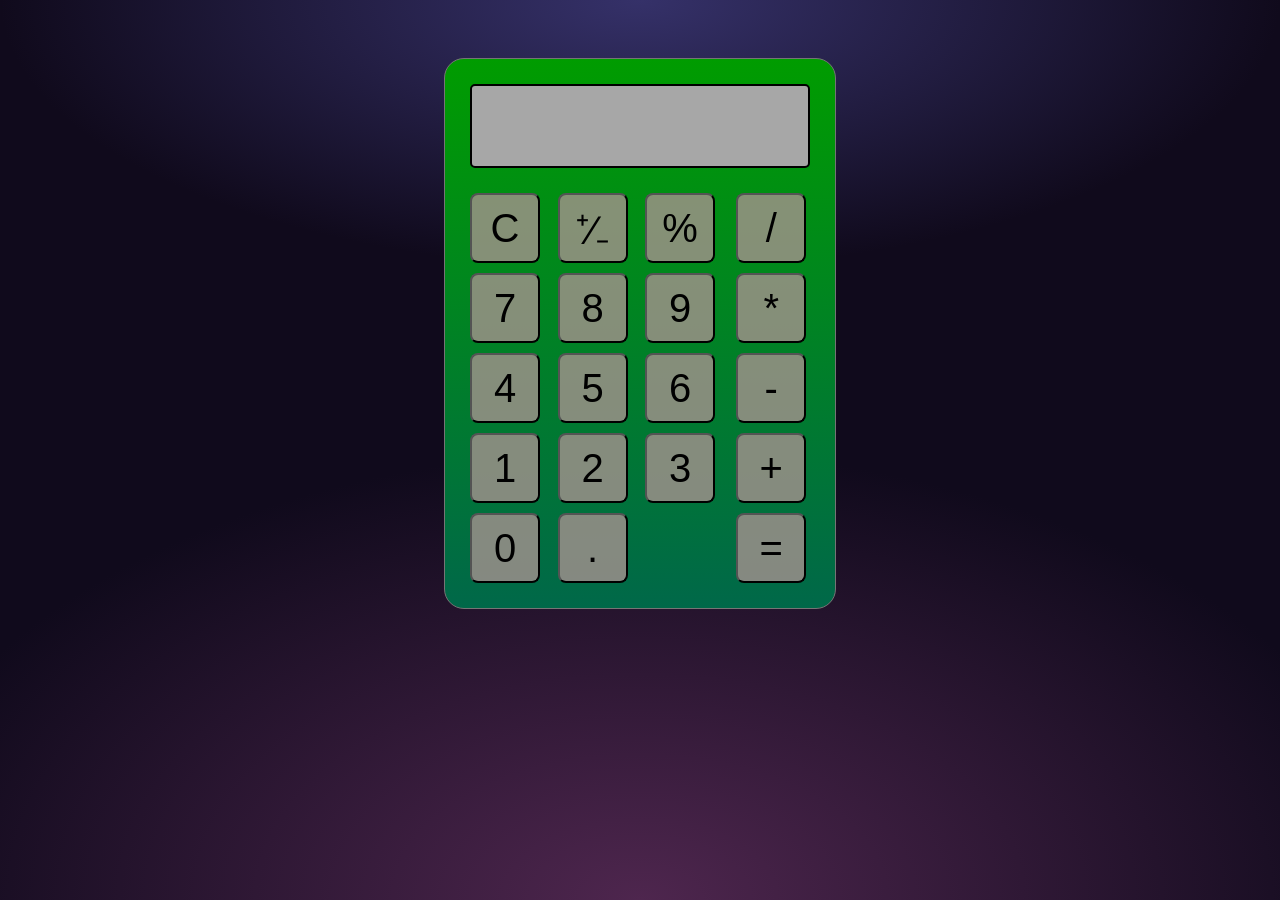
Calculator functions tests › Changes sign
Click the button "4" at x=505, y=388, box 470,353 -> 540,423
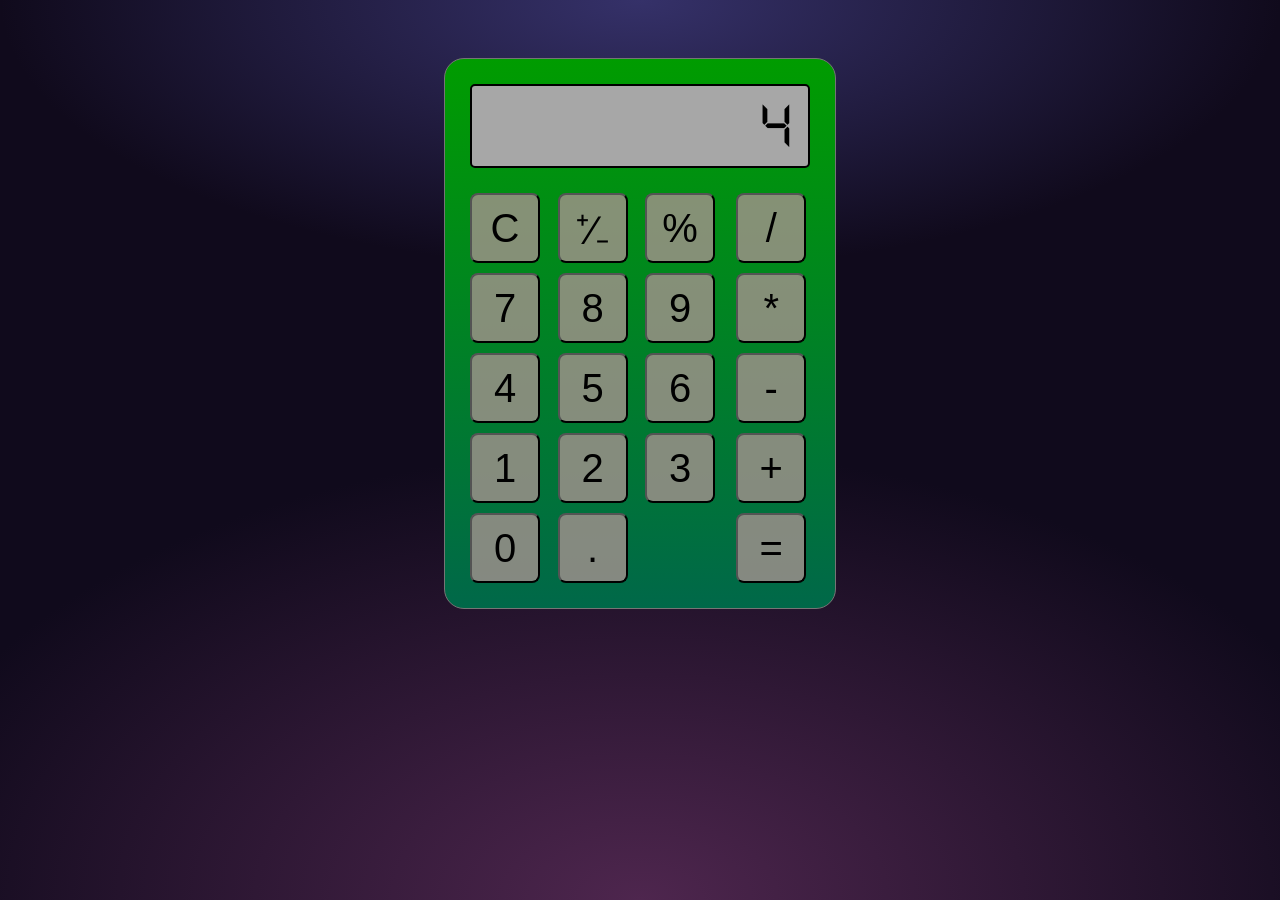
Click the button "5" at x=592, y=388, box 558,353 -> 628,423
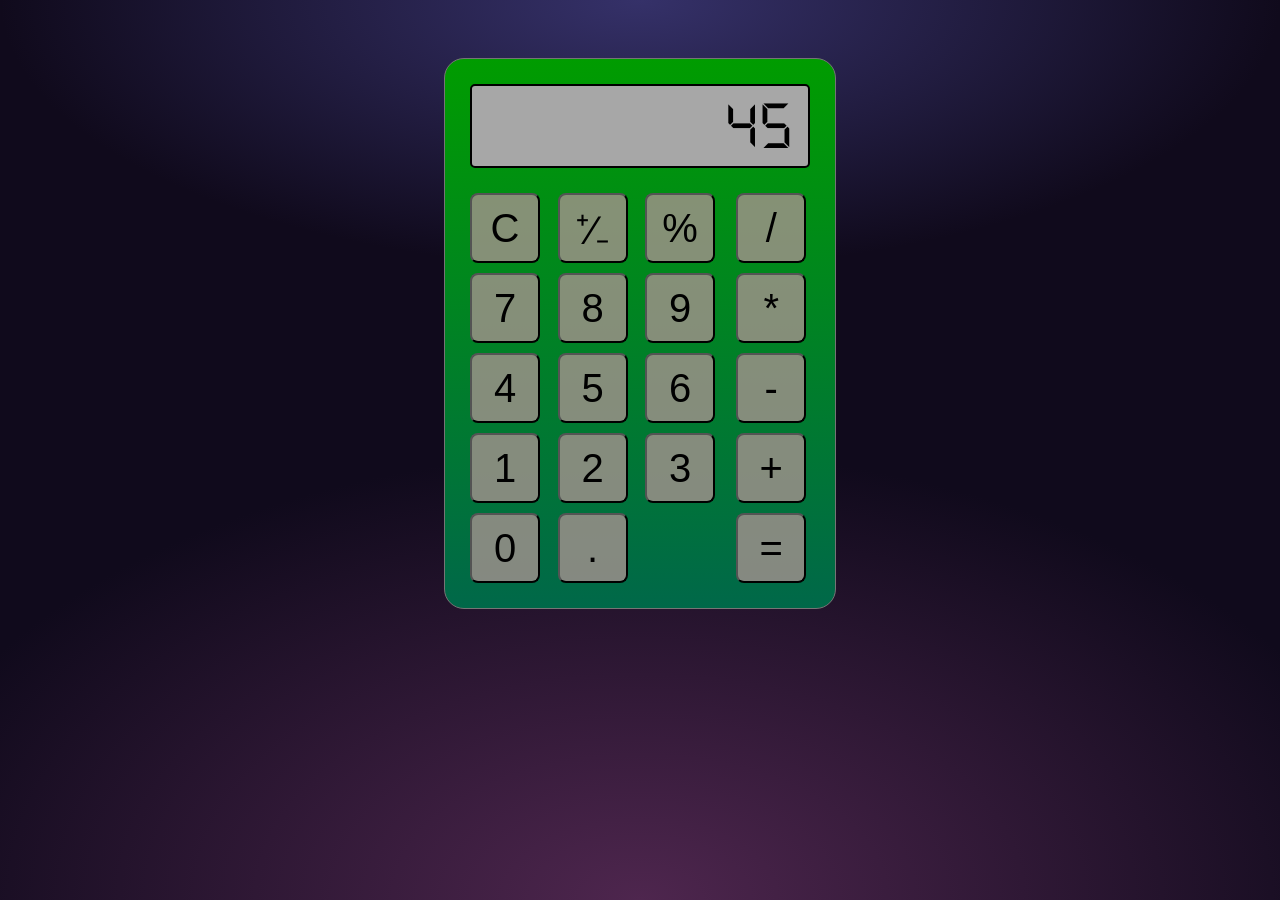
Click the button "2" at x=592, y=468, box 558,433 -> 628,503
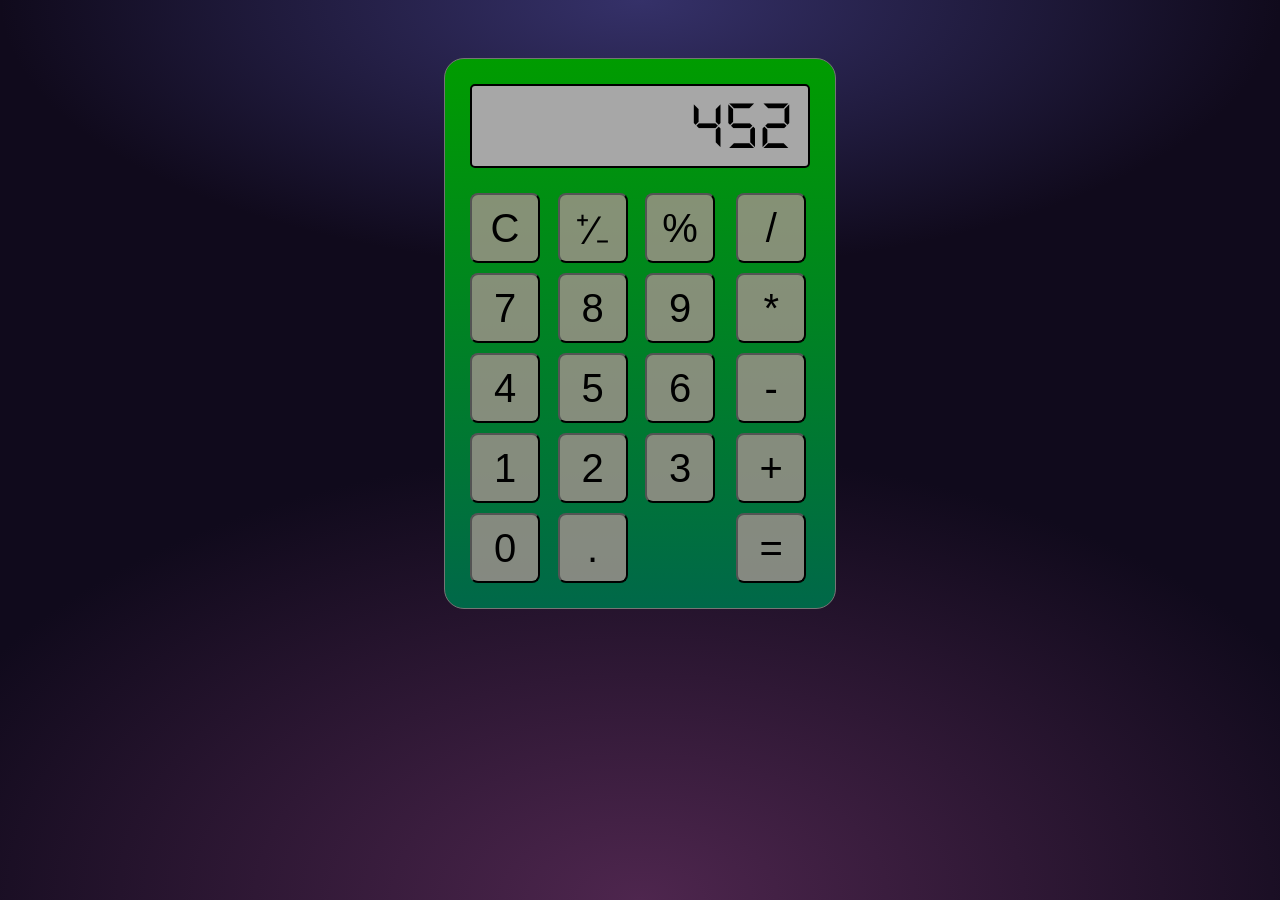
Click the button "⁺∕₋" at x=592, y=228, box 558,193 -> 628,263
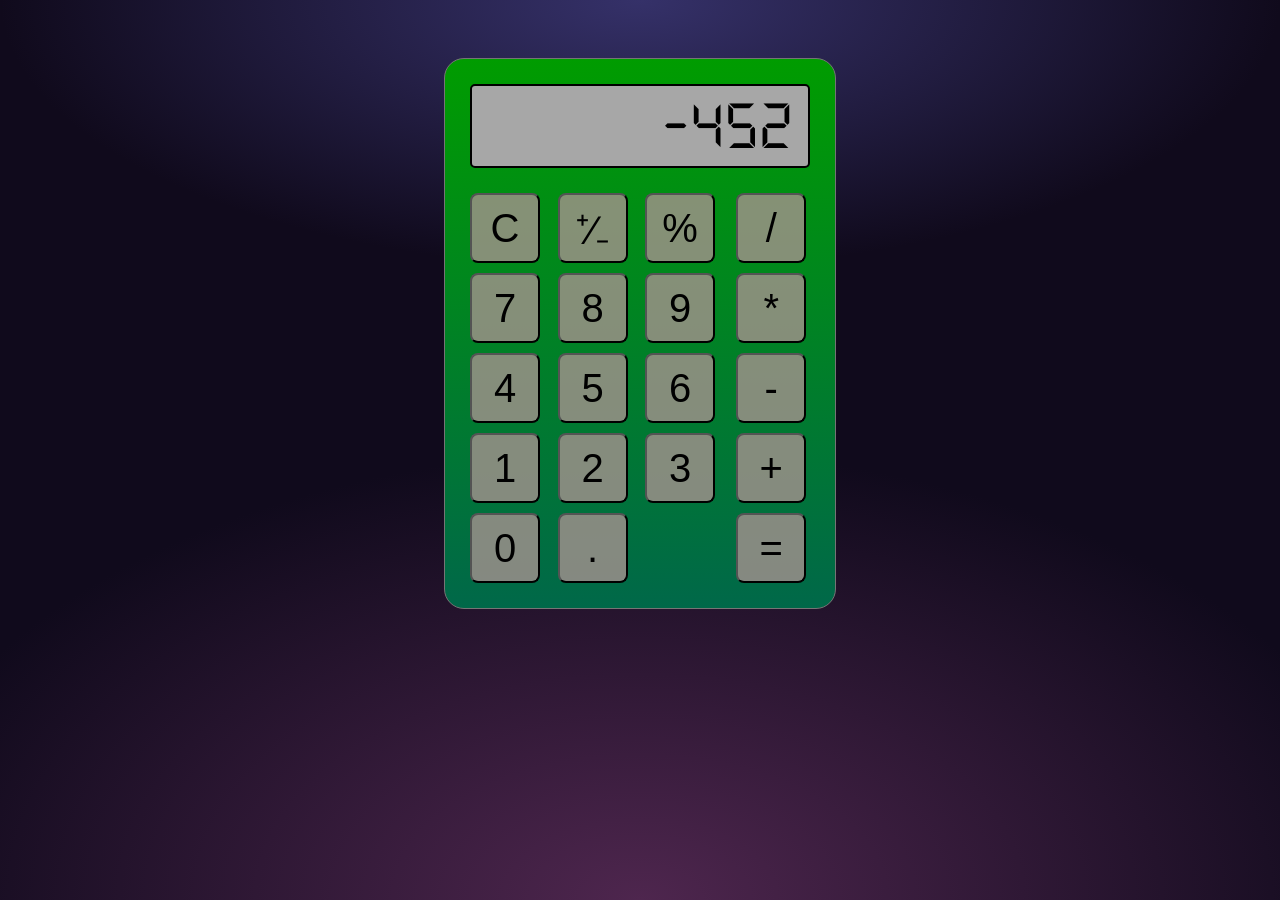
Expected: the text "-452" is shown, 661,91 -> 793,161
